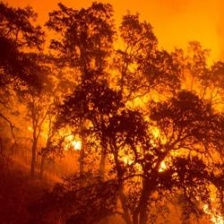fire: (115, 146, 171, 173), (55, 122, 89, 159), (202, 205, 223, 224)
